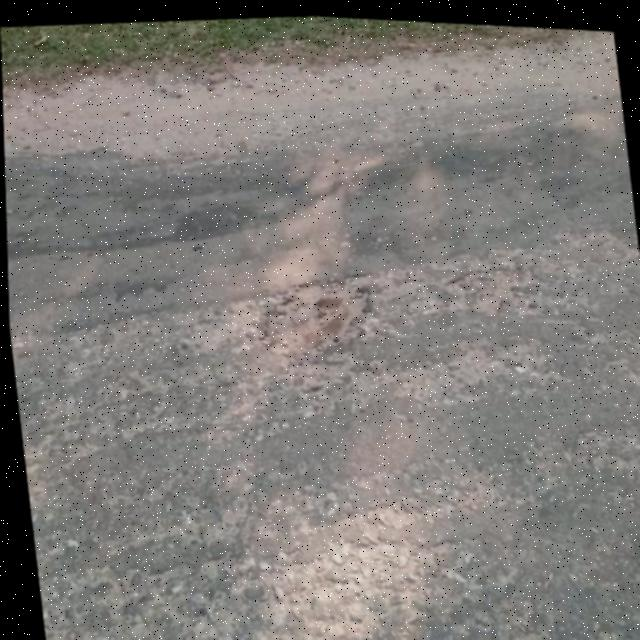Pothole: (251, 260, 380, 359)
